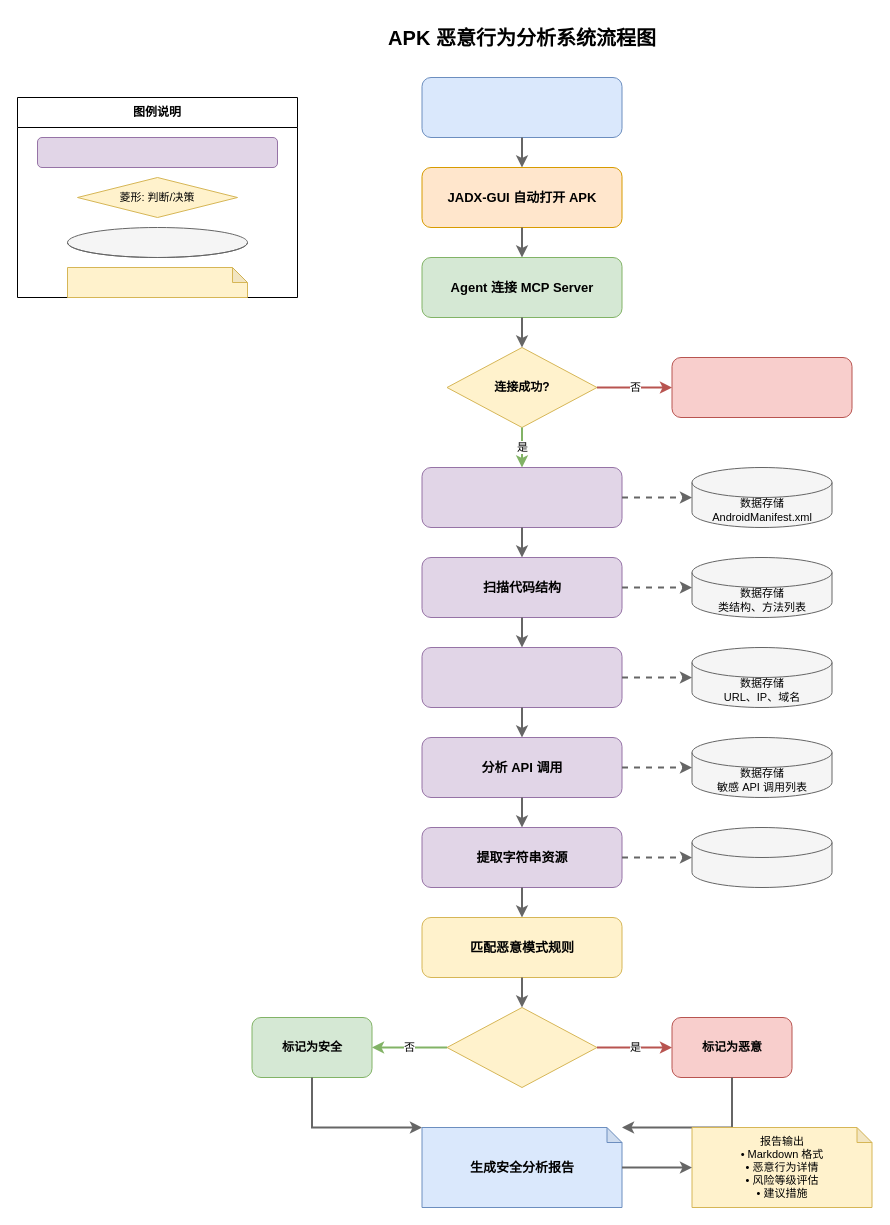
Image size: 890x1225. Some labels were removed from this diagram. The shapes that lost their labels are listed below. From the top down, each one's box as (x1, y1, x2, y2) in pixels, then its label:
(421, 76, 622, 138): 用户上传 APK 文件
(36, 136, 278, 168): 圆角矩形: 流程步骤
(66, 226, 248, 258): 圆柱形: 数据存储
(66, 266, 248, 298): 文档形状: 输出报告
(671, 356, 852, 418): 错误: 无法连接 MCP Server 请检查 JADX 是否启动
(421, 466, 622, 528): 解析 AndroidManifest.xml
(421, 646, 622, 708): 分析网络通信
(691, 826, 832, 888): 数据存储 硬编码字符串
(446, 1006, 597, 1088): 发现恶意行为?
